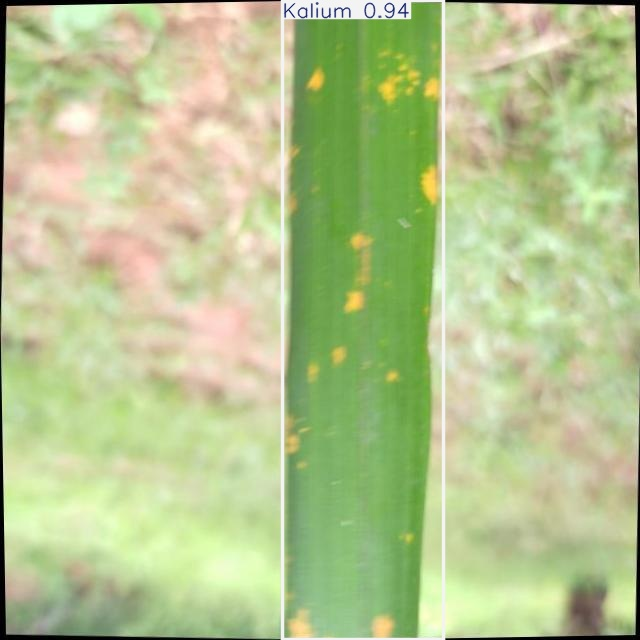Kalium: (283, 1, 443, 639)
